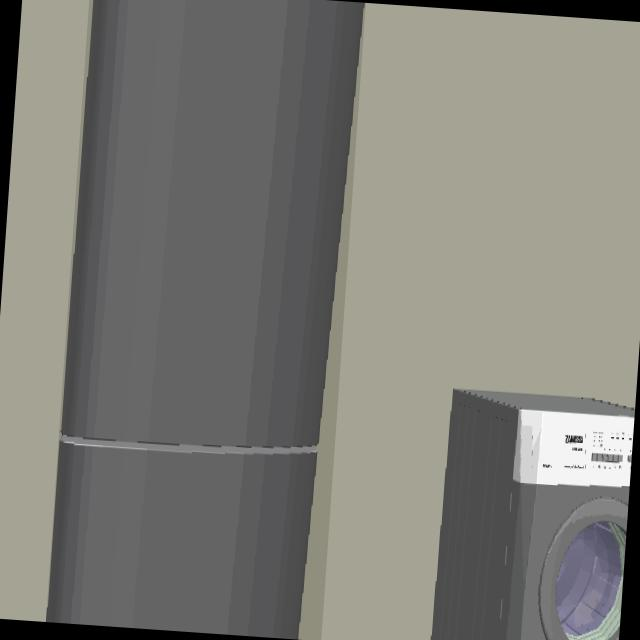fridge: (45, 0, 365, 639)
